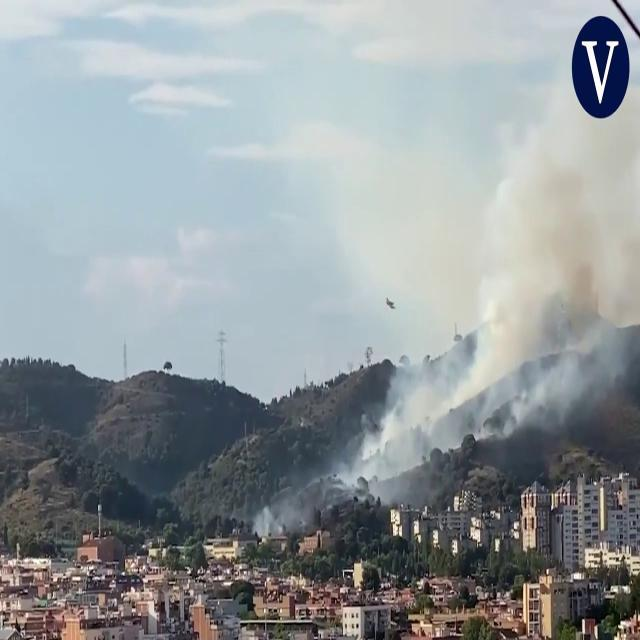Smoke: (344, 21, 640, 503), (247, 452, 326, 549)
